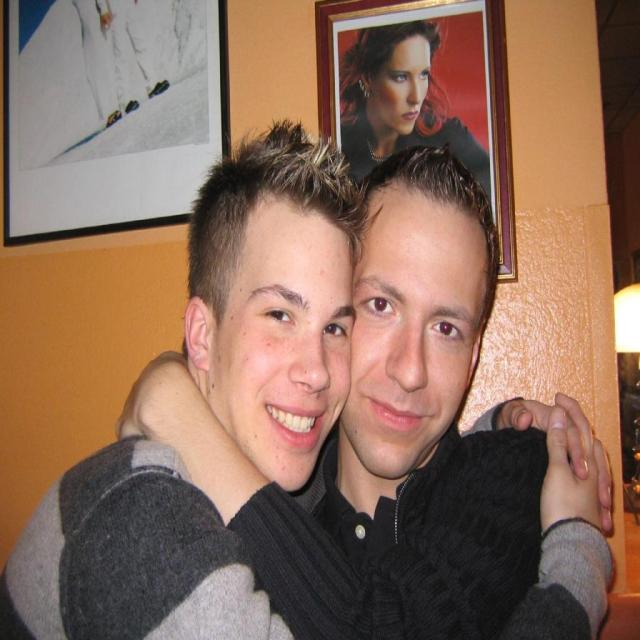Face: (202, 180, 359, 518), (355, 171, 491, 479)
